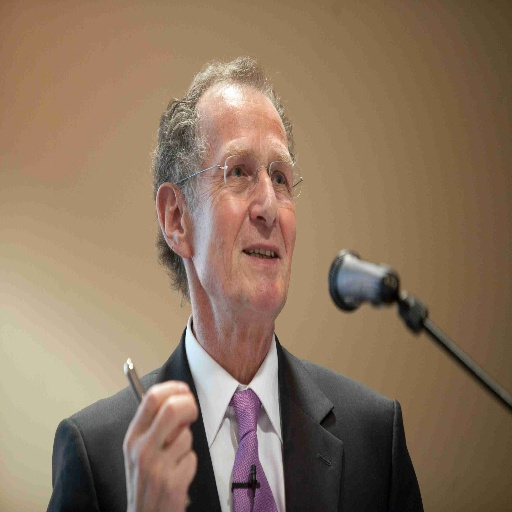hand: (118, 381, 212, 493)
